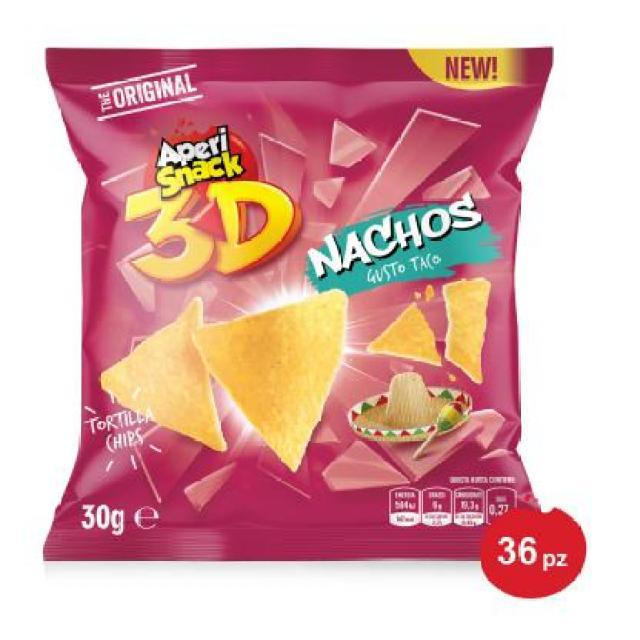Chips: (52, 45, 560, 572)
